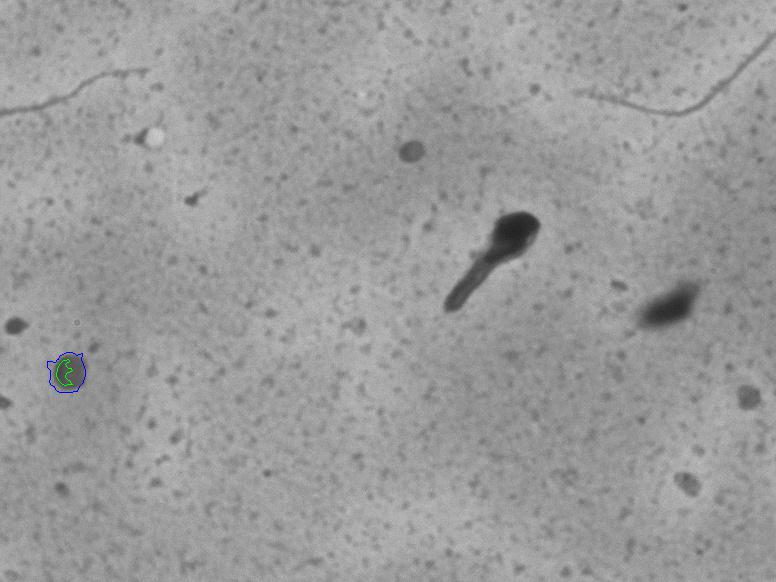Abnormal: (419, 173, 582, 346)
